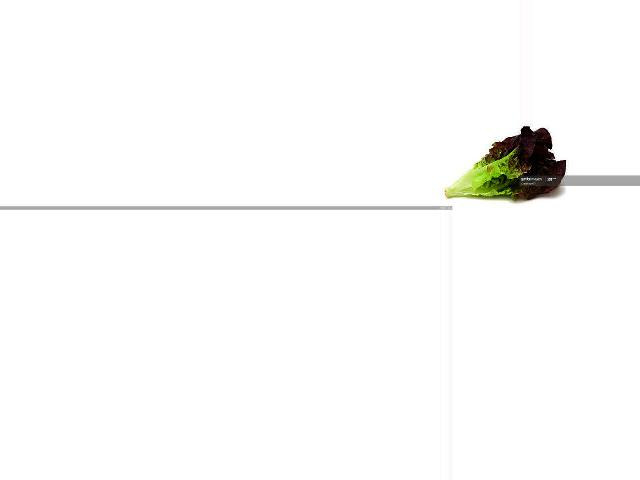lettuce: (440, 125, 568, 205)
